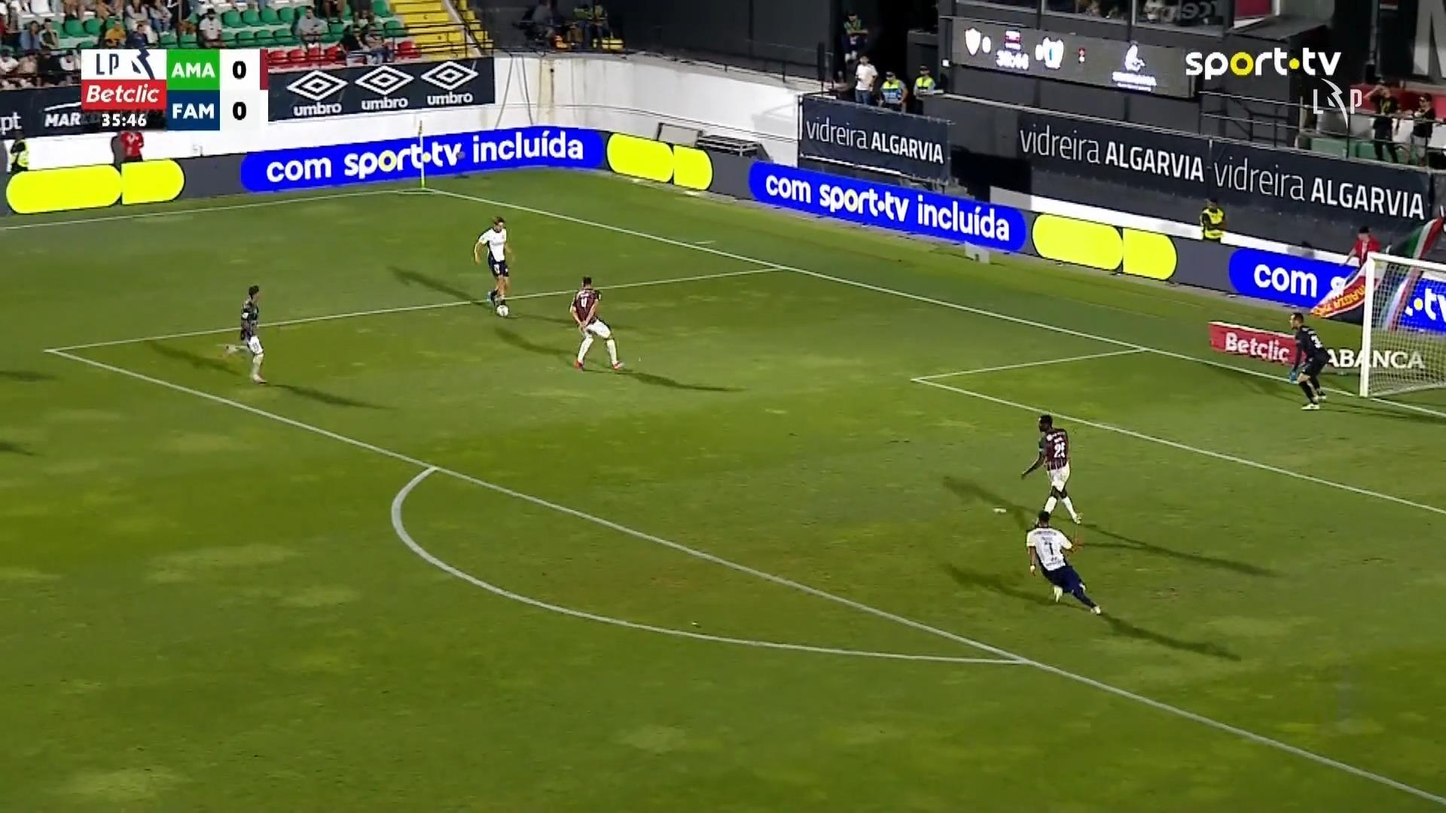ball: (495, 303, 508, 317)
goalkeeper: (1286, 310, 1329, 410)
player: (1025, 510, 1102, 615), (1020, 413, 1084, 525), (568, 275, 624, 371), (223, 284, 267, 384), (472, 215, 514, 317)
